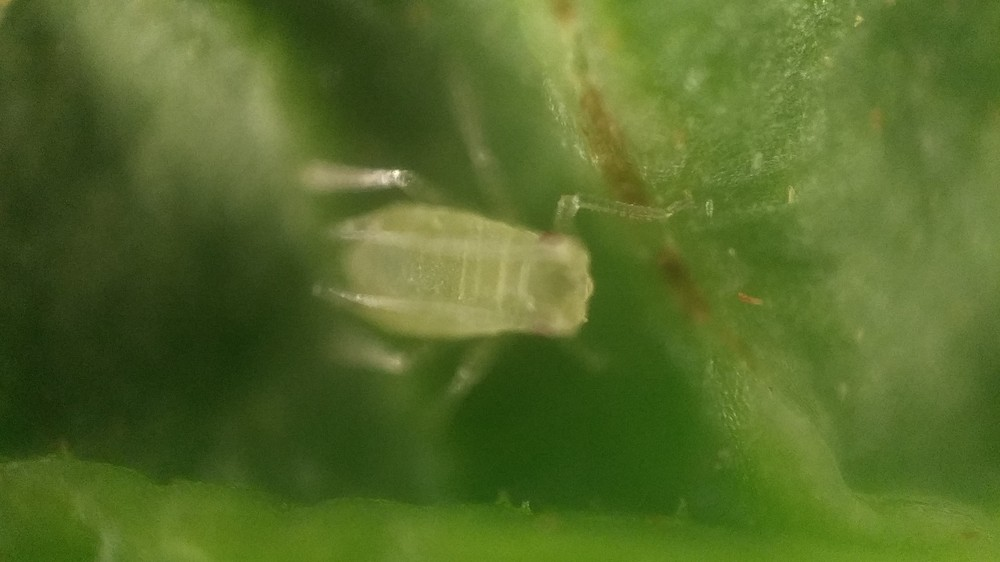Pulgon: (283, 92, 719, 455)
